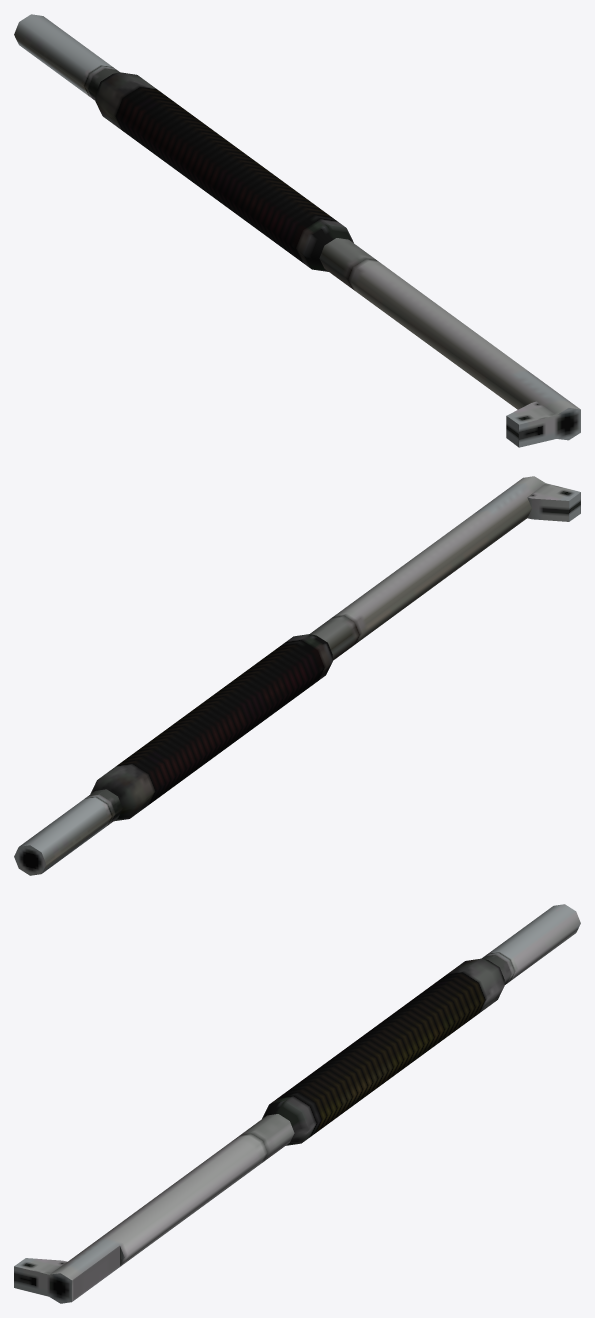
Rendered from eqp_comp_weapon_barrel_s01_l0.fbx.
The picture shows the model from 3 angles, top to bottom: view 1: azimuth 30°, elevation 25°; view 2: azimuth 150°, elevation 25°; view 3: azimuth 330°, elevation 25°; orthographic projection. The views are drawn at different scales.
Parts seen in each view (by area): view 1: mesh_node; view 2: mesh_node; view 3: mesh_node.
Part boxes in pixels (x1,y1,x2,y2): mesh_node: [14, 14, 580, 447]; mesh_node: [14, 476, 580, 875]; mesh_node: [14, 904, 580, 1303].
Size of the model in its own units: 0.0467 by 0.028 by 0.5847.
Materials: 1 (1 with a texture image).
